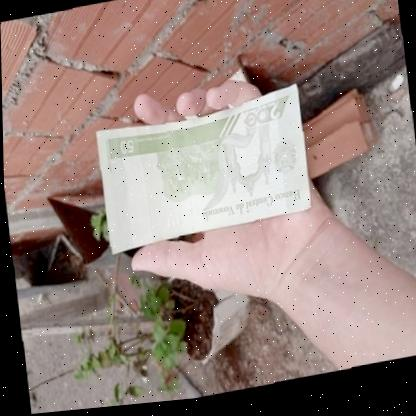fifty-back-vef: (93, 87, 312, 257)
